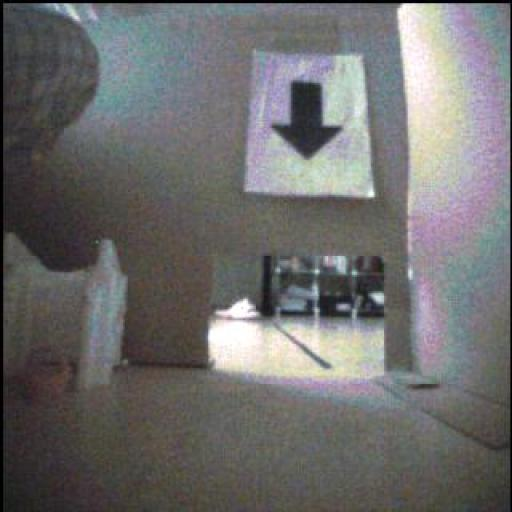arrow: (273, 83, 343, 160)
